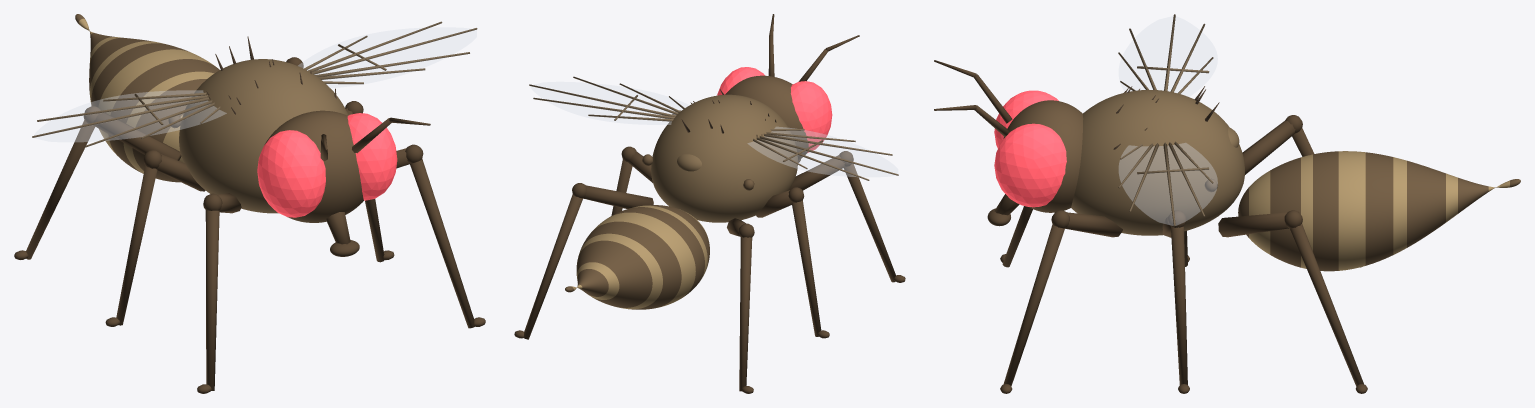
The model's file is fly.glb.
The picture shows the model from 3 angles, left to right: view 1: azimuth 30°, elevation 25°; view 2: azimuth 150°, elevation 25°; view 3: azimuth 270°, elevation 25°; orthographic projection. The views are drawn at different scales.
Visible parts, largest first — view 1: thorax, abdomen, wingL, wingR, eyeL, head, eyeR, legL0_tibia, legR0_tibia, legL1_tibia, legL2_tibia, legL2 (+4 smaller); view 2: thorax, abdomen, wingL, wingR, head, eyeL, legL2_tibia, legR2_tibia, legL1_tibia, legL0_tibia, legR2, legL0 (+5 smaller); view 3: abdomen, thorax, wingR, wingL, eyeR, head, legR2_tibia, legR0_tibia, legR1_tibia, legR2, legL2, legR0 (+3 smaller).
Boxes of the visible parts, bbox=[...] form: thorax: bbox=[179, 59, 348, 213]; abdomen: bbox=[75, 14, 219, 182]; wingL: bbox=[32, 90, 226, 147]; wingR: bbox=[298, 21, 477, 87]; eyeL: bbox=[257, 130, 325, 217]; head: bbox=[264, 110, 363, 222]; eyeR: bbox=[347, 113, 397, 200]; legL0_tibia: bbox=[205, 210, 219, 390]; legR0_tibia: bbox=[410, 159, 475, 328]; legL1_tibia: bbox=[116, 165, 157, 325]; legL2_tibia: bbox=[26, 120, 94, 259]; legL2: bbox=[93, 113, 181, 160]; thorax: bbox=[651, 94, 797, 222]; abdomen: bbox=[565, 205, 709, 309]; wingL: bbox=[747, 127, 898, 180]; wingR: bbox=[529, 76, 689, 124]; head: bbox=[725, 75, 808, 160]; eyeL: bbox=[790, 81, 832, 152]; legL2_tibia: bbox=[739, 237, 752, 391]; legR2_tibia: bbox=[523, 194, 583, 339]; legL1_tibia: bbox=[792, 200, 821, 336]; legL0_tibia: bbox=[844, 163, 895, 282]; legR2: bbox=[583, 185, 653, 208]; legL0: bbox=[788, 155, 845, 190]; abdomen: bbox=[1238, 151, 1520, 271]; thorax: bbox=[1071, 90, 1244, 235]; wingR: bbox=[1118, 141, 1217, 226]; wingL: bbox=[1118, 14, 1217, 96]; eyeR: bbox=[994, 123, 1066, 207]; head: bbox=[1003, 100, 1083, 212]; legR2_tibia: bbox=[1290, 224, 1363, 386]; legR0_tibia: bbox=[1003, 224, 1065, 386]; legR1_tibia: bbox=[1171, 226, 1187, 384]; legR2: bbox=[1218, 212, 1288, 237]; legL2: bbox=[1242, 121, 1295, 174]; legR0: bbox=[1065, 212, 1122, 237].
Bounding box in the file's own units: 1.46 × 0.7879 × 1.72.
